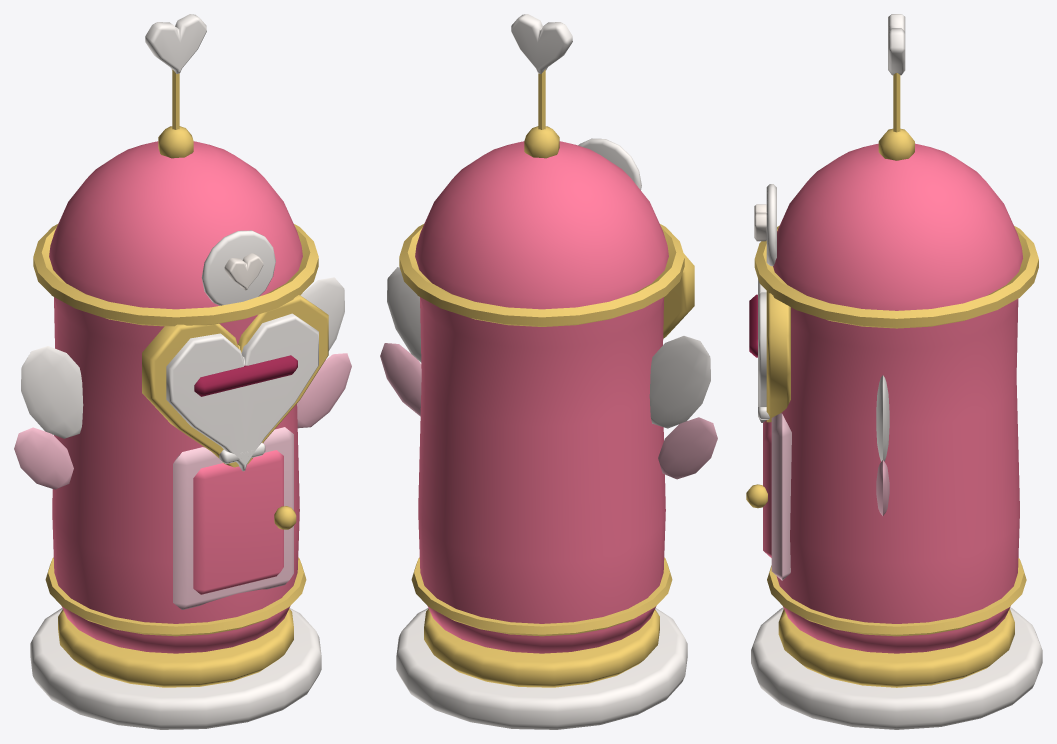
File: mailbox_heart.glb
The picture shows the model from 3 angles, left to right: view 1: azimuth 30°, elevation 25°; view 2: azimuth 150°, elevation 25°; view 3: azimuth 270°, elevation 25°; orthographic projection.
Parts seen in each view (by area): view 1: mailbox_heart; view 2: mailbox_heart; view 3: mailbox_heart.
Part boxes in pixels (x1,y1,x2,y2): mailbox_heart: (14,14,351,729); mailbox_heart: (380,14,717,729); mailbox_heart: (746,14,1042,729).
Bounding box in the file's own units: 1.12 × 2.06 × 0.8533.
